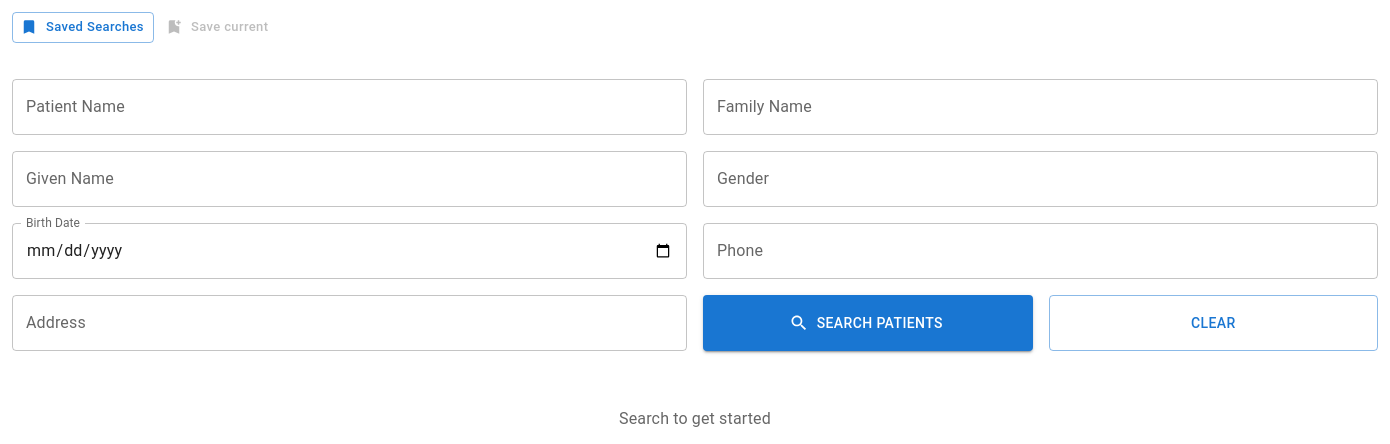
PatientSearch › shows "No patients found" when search returns empty bundle
Click the button "Search Patients".
click(868, 323)  # box [703,295,1032,351]
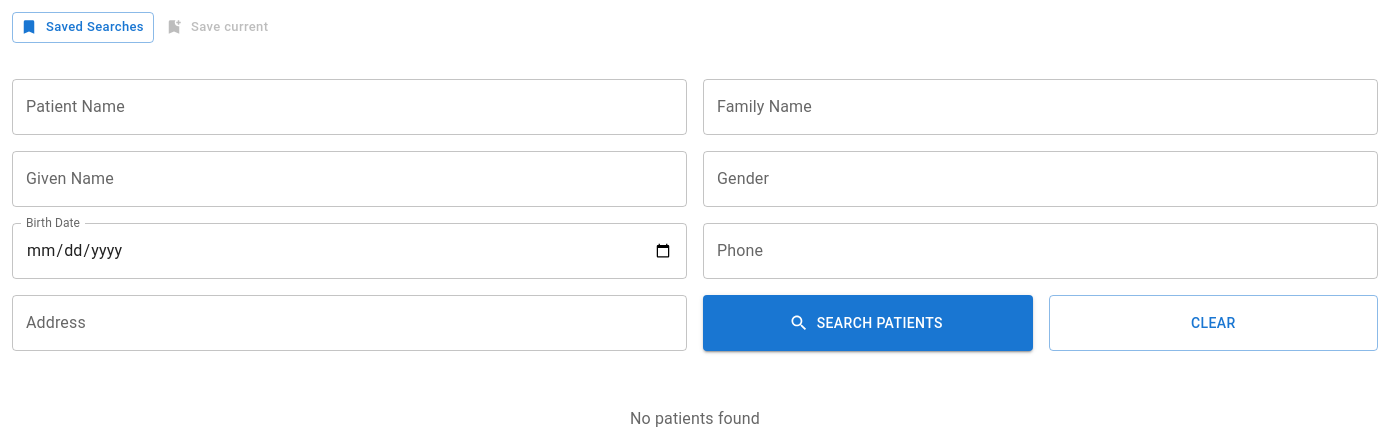
Now the text "No patients found" is shown, box [630,409,760,428]
